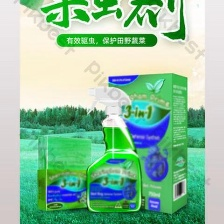book: (104, 72, 192, 216), (35, 132, 94, 215)
insecticide: (83, 84, 145, 214)
